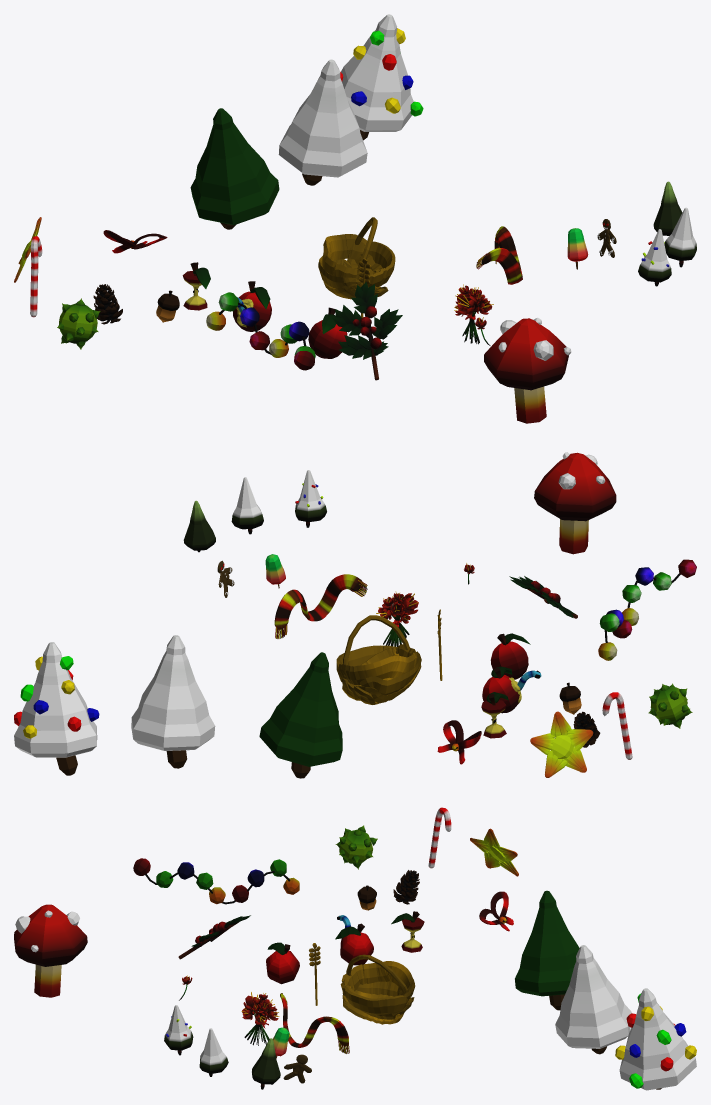
Rendered from Optixmas.fbx.
The picture shows the model from 3 angles, top to bottom: view 1: azimuth 30°, elevation 25°; view 2: azimuth 150°, elevation 25°; view 3: azimuth 270°, elevation 25°; orthographic projection. The views are drawn at different scales.
Visible parts, largest first — view 1: Treexmas1, Treexmas2, Treexmas, Champignon, Panier, Houx, Guirlande, Chataignes, Bouquet1, Houx2, Paindepissss, Forest (+6 smaller); view 2: Treexmas, Treexmas2, Treexmas1, Champignon, Panier, Guirlande, Etoile, Bouquet1, Chataignes, Houx3, Houx2, Paindepissss (+8 smaller); view 3: Treexmas, Treexmas2, Treexmas1, Champignon, Panier, Guirlande, Paindepissss, Houx3, Chataignes, Houx2, Etoile, Bouquet1 (+8 smaller).
Part boxes in pixels (box(x1,y1,x2,y2)): Treexmas1: box(190, 108, 279, 229); Treexmas2: box(278, 59, 367, 185); Treexmas: box(340, 14, 423, 140); Champignon: box(484, 318, 571, 423); Panier: box(318, 217, 395, 299); Houx: box(331, 282, 402, 380); Guirlande: box(206, 292, 315, 370); Chataignes: box(57, 298, 100, 349); Bouquet1: box(476, 226, 522, 284); Houx2: box(308, 307, 347, 358); Paindepissss: box(454, 284, 493, 344); Forest: box(664, 207, 696, 267); Treexmas: box(14, 642, 99, 775); Treexmas2: box(131, 635, 215, 768); Treexmas1: box(259, 652, 342, 778); Champignon: box(534, 452, 616, 554); Panier: box(336, 615, 421, 704); Guirlande: box(598, 559, 696, 660); Etoile: box(530, 711, 593, 777); Bouquet1: box(274, 574, 367, 638); Chataignes: box(648, 683, 692, 728); Houx3: box(482, 666, 541, 713); Houx2: box(490, 633, 530, 679); Paindepissss: box(376, 591, 418, 646); Treexmas: box(615, 988, 696, 1090); Treexmas2: box(555, 945, 631, 1054); Treexmas1: box(515, 890, 579, 1010); Champignon: box(14, 904, 87, 997); Panier: box(340, 954, 415, 1024); Guirlande: box(133, 858, 299, 904); Paindepissss: box(241, 992, 279, 1045); Houx3: box(335, 915, 373, 965); Chataignes: box(335, 825, 377, 869); Houx2: box(266, 942, 299, 984); Etoile: box(470, 828, 518, 876); Bouquet1: box(280, 993, 349, 1053).
Size of the model in its own units: 9.19 by 2.06 by 10.79.
